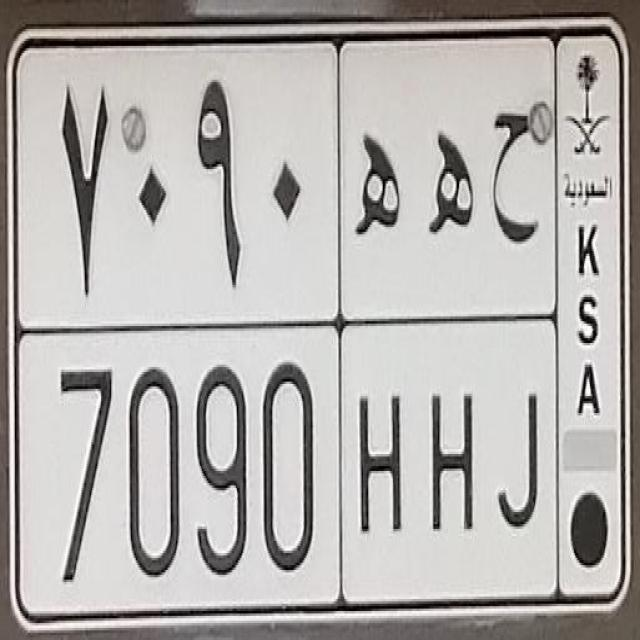license_plate: (10, 16, 630, 628)
